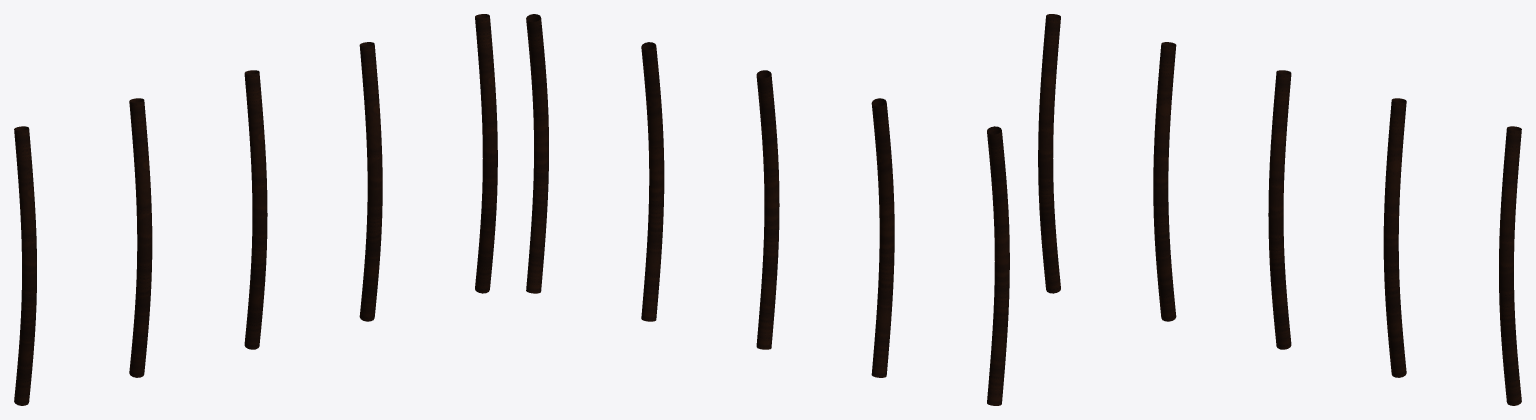
File: west.glb
The picture shows the model from 3 angles, left to right: view 1: azimuth 30°, elevation 25°; view 2: azimuth 150°, elevation 25°; view 3: azimuth 330°, elevation 25°; orthographic projection.
Visible parts, largest first — view 1: pirate-captains-cabin west; view 2: pirate-captains-cabin west; view 3: pirate-captains-cabin west.
Boxes of the visible parts, x1,y1,x2,y2 form: pirate-captains-cabin west: (14, 14, 497, 405); pirate-captains-cabin west: (526, 14, 1009, 405); pirate-captains-cabin west: (1038, 14, 1521, 405).
Size of the model in its own units: 6.17 by 3.43 by 0.3489.
1 material, 1 textured.
